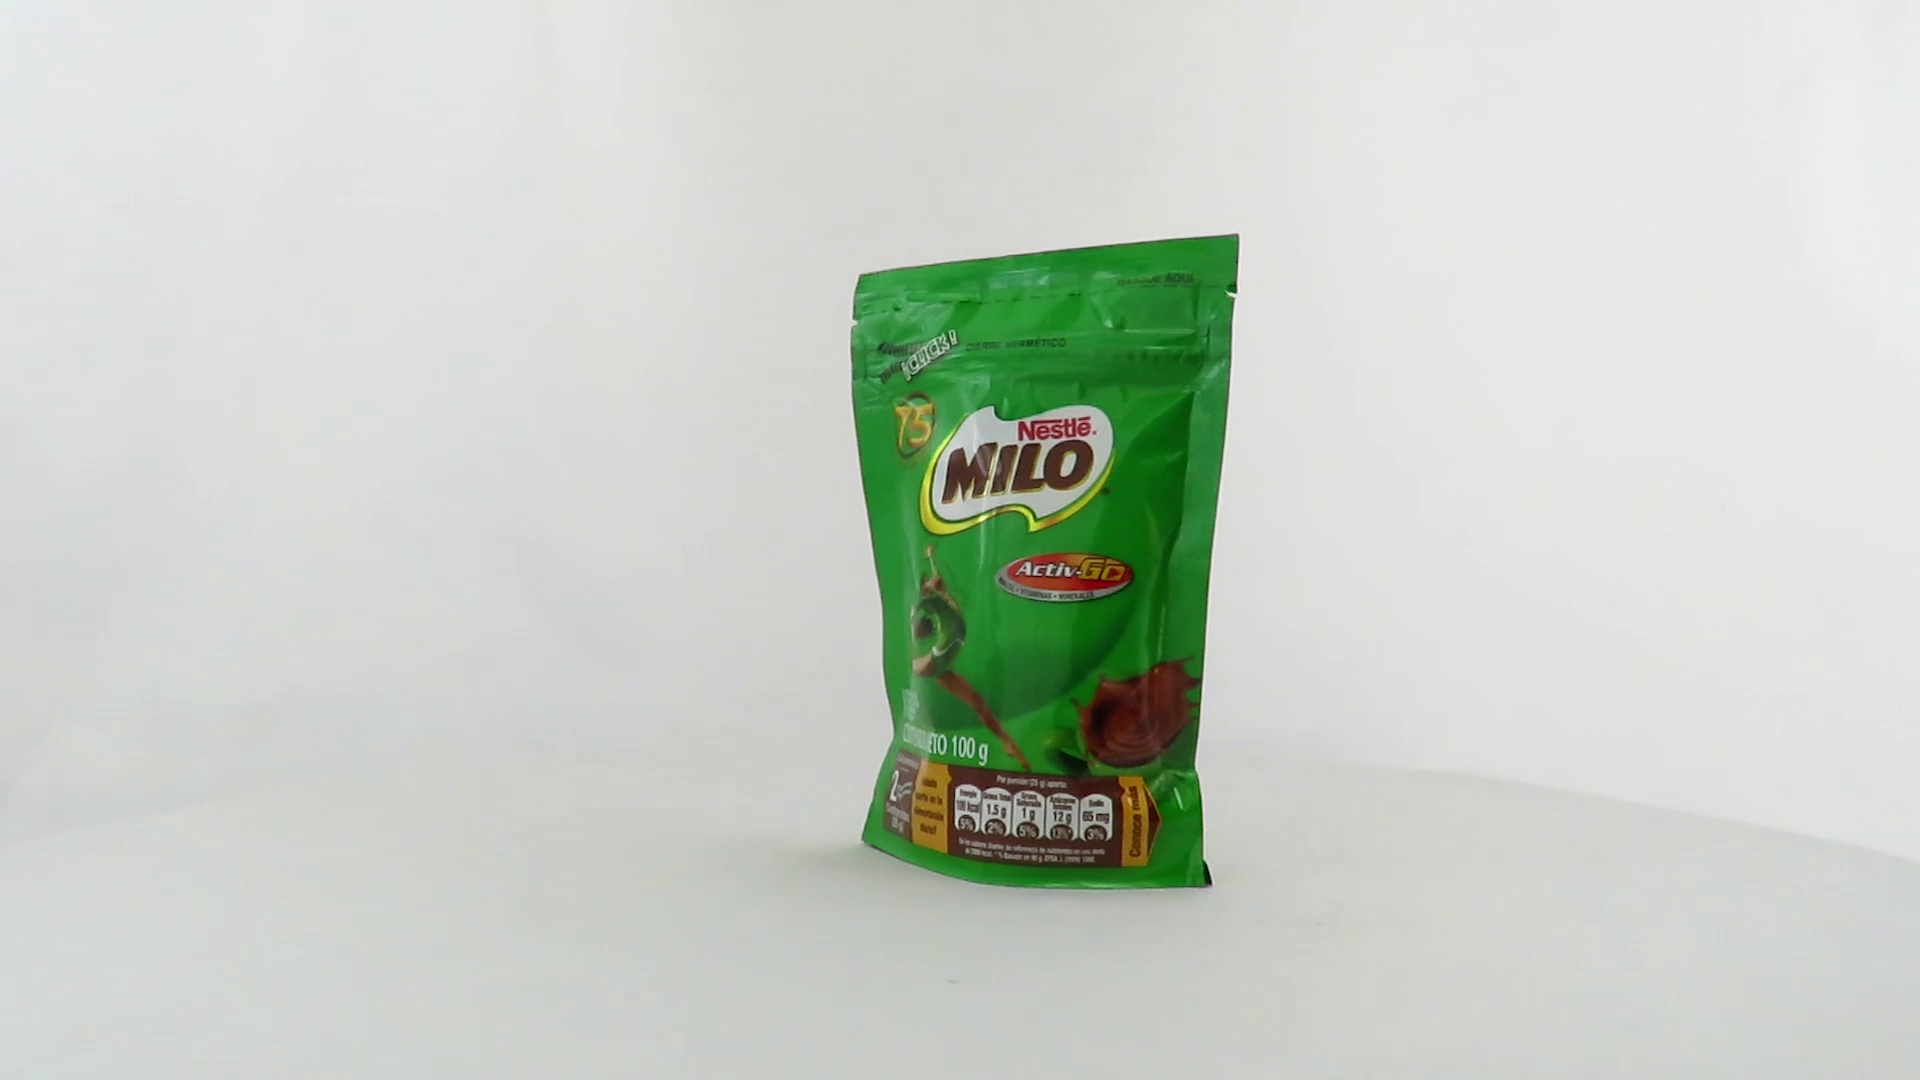COL0170203DYP10000: (828, 228, 1246, 895)
